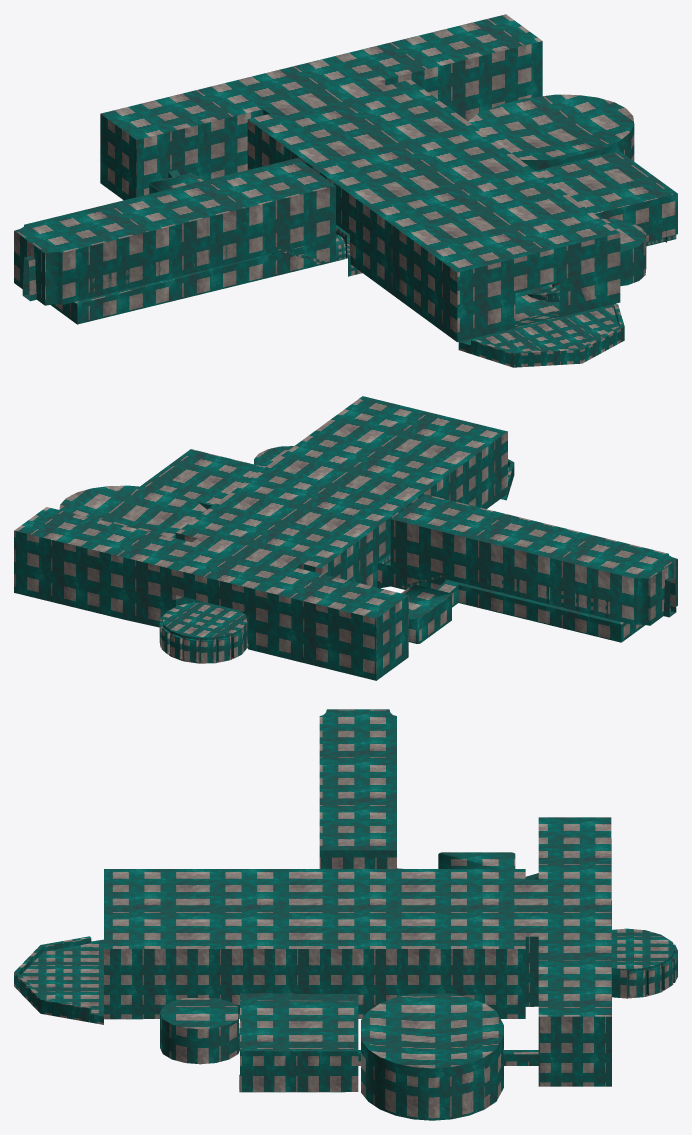
Rendered from Cor_jedi_temple.fbx.
The picture shows the model from 3 angles, top to bottom: view 1: azimuth 30°, elevation 25°; view 2: azimuth 150°, elevation 25°; view 3: azimuth 270°, elevation 25°; orthographic projection. The views are drawn at different scales.
Parts seen in each view (by area): view 1: polymsh139, cylinder3; view 2: polymsh139, polymsh99, polymsh148, polymsh112; view 3: polymsh139, cylinder3, polymsh99, polymsh148.
Boxes of the visible parts, x1,y1,x2,y2 form: polymsh139: (14, 14, 677, 342); cylinder3: (458, 303, 624, 367); polymsh139: (14, 396, 677, 680); polymsh99: (162, 595, 248, 652); polymsh148: (159, 613, 242, 663); polymsh112: (487, 571, 607, 618); polymsh139: (104, 709, 611, 1120); cylinder3: (14, 936, 103, 1024); polymsh99: (612, 928, 674, 998); polymsh148: (627, 942, 677, 998).
Size of the model in its own units: 231 by 34.44 by 206.
